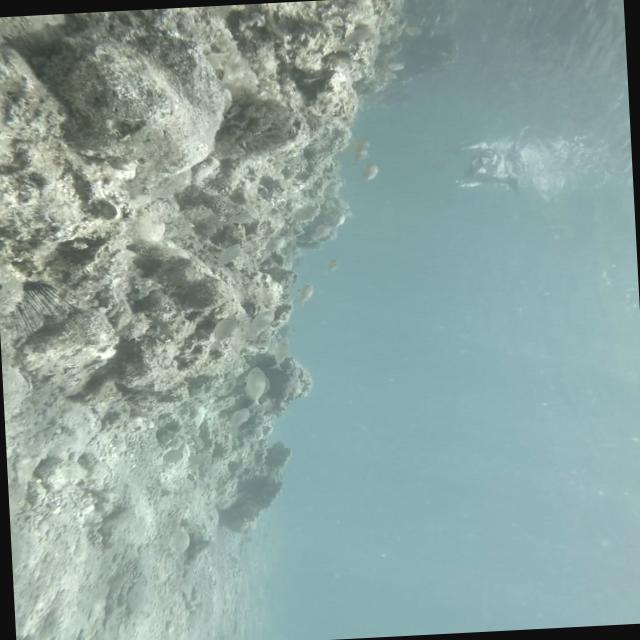Sokar Baligi: (236, 364, 272, 419), (208, 241, 252, 280)
